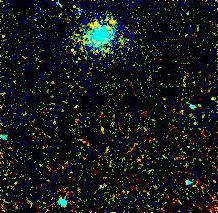star: (59, 37, 89, 67)
